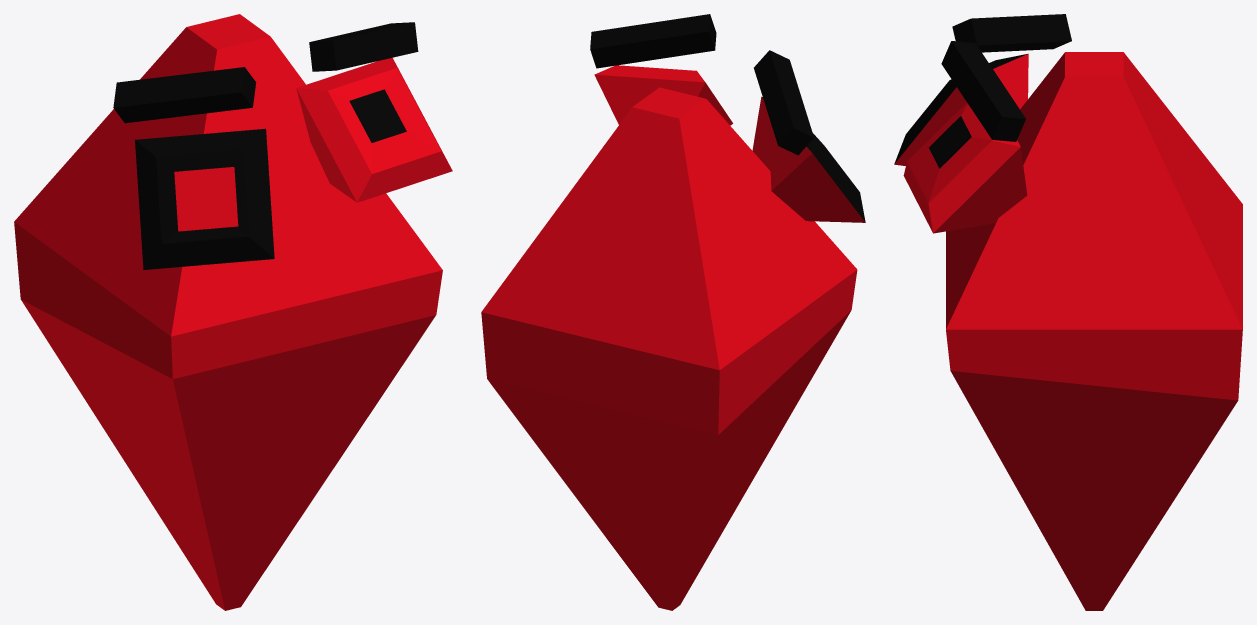
The model's file is player_one_red.glb.
3 views of the same model, side by side, from view 1: azimuth 30°, elevation 25°; view 2: azimuth 150°, elevation 25°; view 3: azimuth 270°, elevation 25° (orthographic). The views are drawn at different scales.
Visible parts, largest first — view 1: player_one_red; view 2: player_one_red; view 3: player_one_red.
Part boxes in pixels (x1,y1,x2,y2): player_one_red: (14,14,452,610); player_one_red: (481,14,865,610); player_one_red: (894,14,1242,610).
Bounding box in the file's own units: 1.08 × 2.15 × 1.17.
